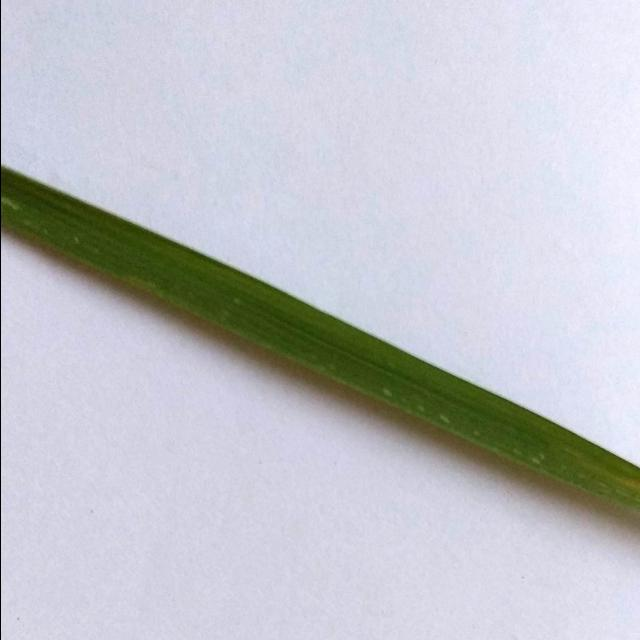healthy: (0, 158, 640, 560)
